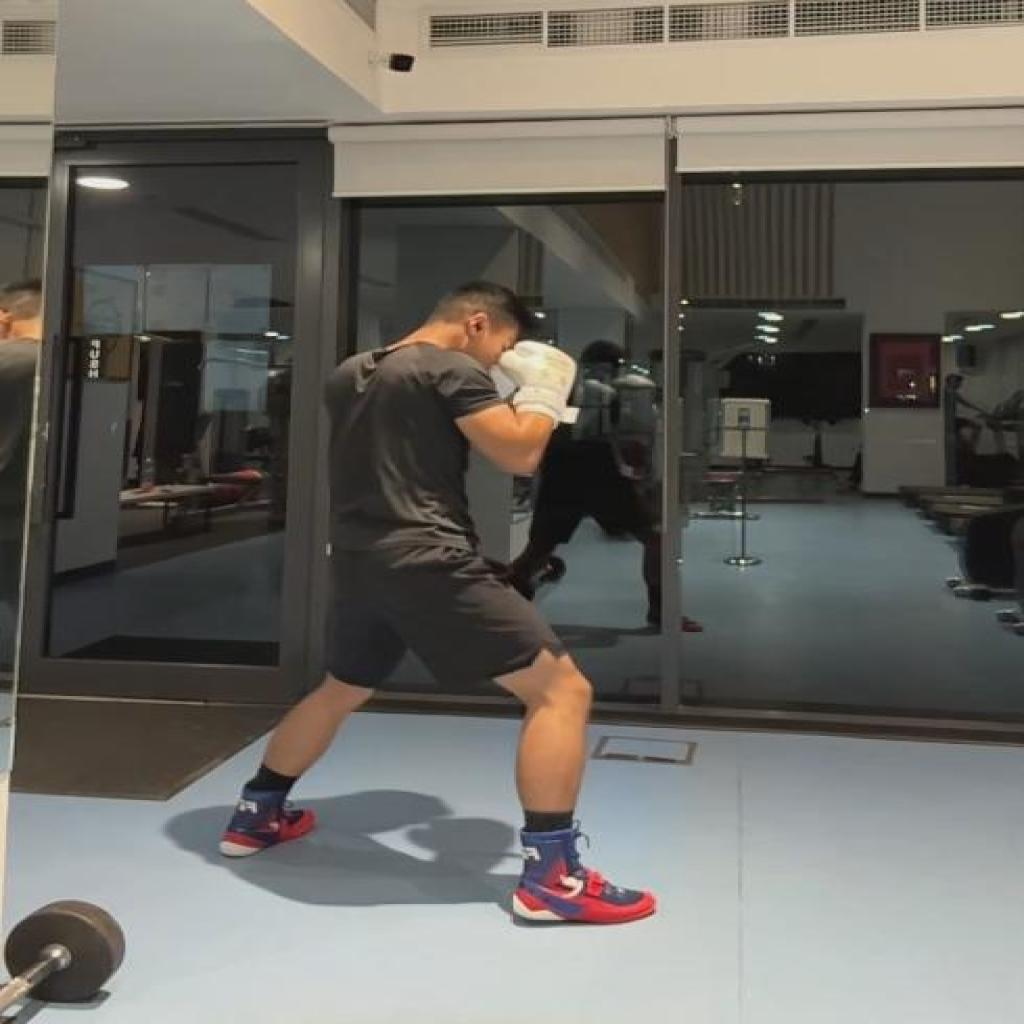no punch: (213, 282, 663, 931)
